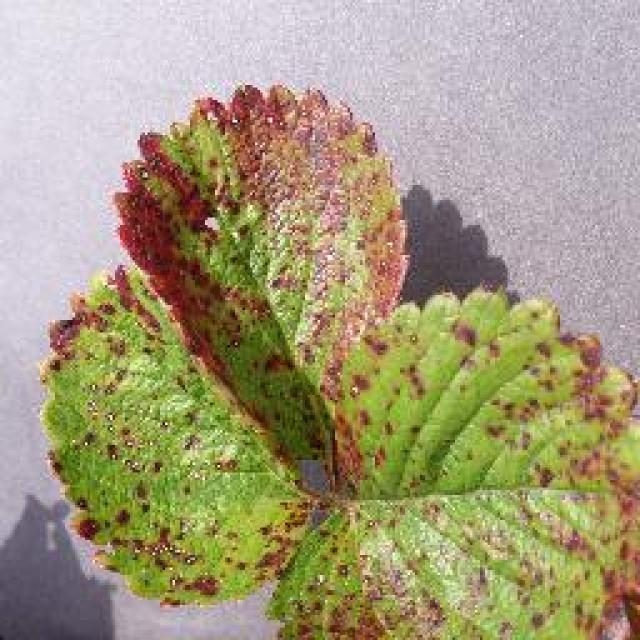Strawberry___Leaf_scorch: (20, 52, 638, 640)
